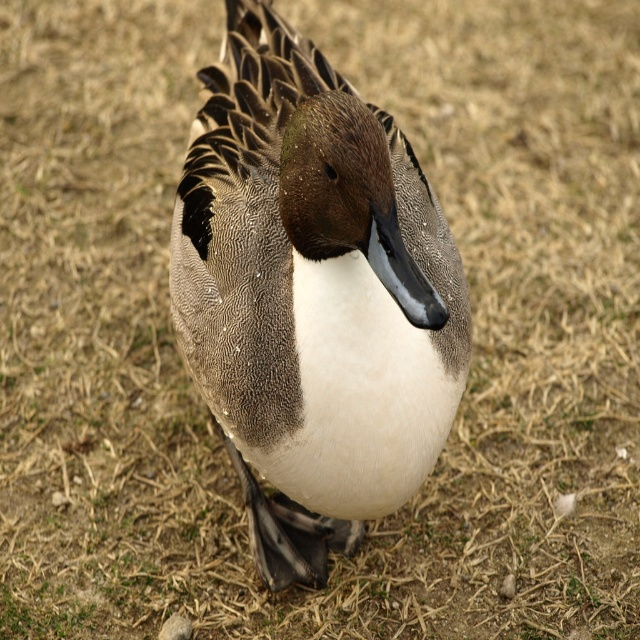Goose: (167, 0, 472, 596)
